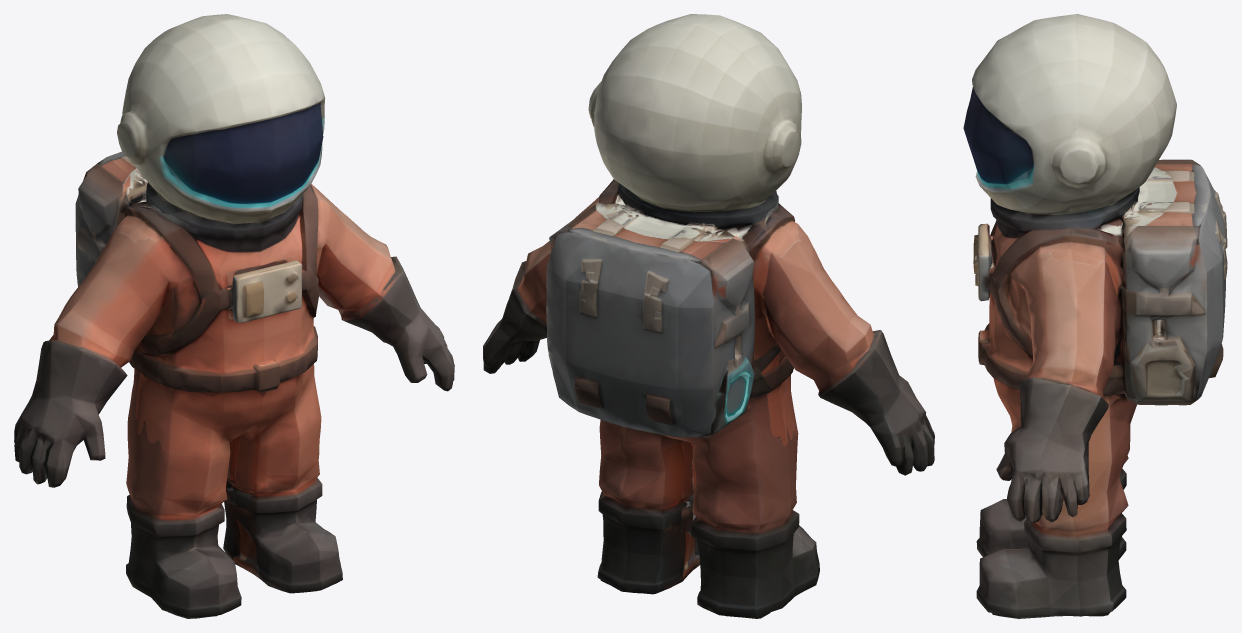
File: explorador-astronauta-original.glb
The picture shows the model from 3 angles, left to right: view 1: azimuth 30°, elevation 25°; view 2: azimuth 150°, elevation 25°; view 3: azimuth 270°, elevation 25°; orthographic projection. The views are drawn at different scales.
Parts seen in each view (by area): view 1: texture_mapping; view 2: texture_mapping; view 3: texture_mapping.
Part boxes in pixels (bbox=[...]): texture_mapping: bbox=[14, 14, 454, 618]; texture_mapping: bbox=[483, 14, 934, 618]; texture_mapping: bbox=[963, 14, 1227, 618].
Bounding box in the file's own units: 0.7811 × 0.9637 × 0.4141.
Materials: 1 (1 with a texture image).
